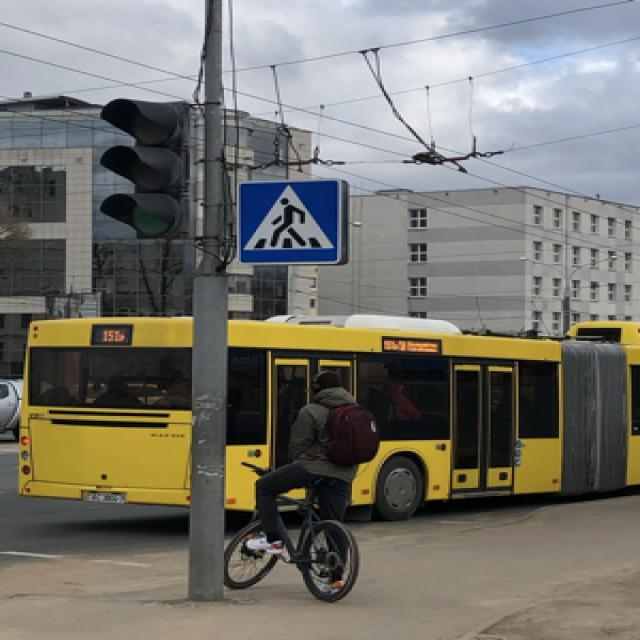crosswalk_sign: (232, 176, 348, 268)
